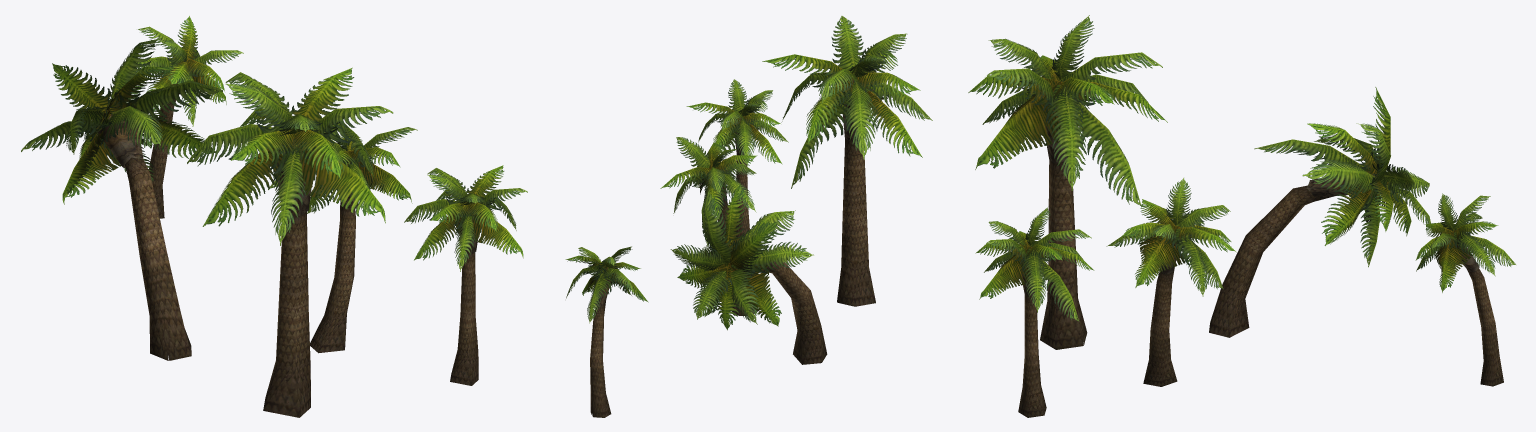
File: environment_Tree_yeshu_02_a.FBX
3 views of the same model, side by side, from view 1: azimuth 30°, elevation 25°; view 2: azimuth 150°, elevation 25°; view 3: azimuth 270°, elevation 25° (orthographic). The views are drawn at different scales.
Parts seen in each view (by area): view 1: environment_Tree_yeshu_02_a0, environment_Tree_yeshu_02_b0, environment_Tree_yeshu_02_e0, environment_Tree_yeshu_02_d0, environment_Tree_yeshu_02_c0; view 2: environment_Tree_yeshu_02_a0, environment_Tree_yeshu_02_b0, environment_Tree_yeshu_02_e0, environment_Tree_yeshu_02_c0, environment_Tree_yeshu_02_d0; view 3: environment_Tree_yeshu_02_a0, environment_Tree_yeshu_02_b0, environment_Tree_yeshu_02_d0, environment_Tree_yeshu_02_e0, environment_Tree_yeshu_02_c0.
Boxes of the visible parts, <box> form: environment_Tree_yeshu_02_a0: <box>187,67,393,417</box>; environment_Tree_yeshu_02_b0: <box>21,38,222,360</box>; environment_Tree_yeshu_02_e0: <box>404,165,527,385</box>; environment_Tree_yeshu_02_d0: <box>268,127,417,353</box>; environment_Tree_yeshu_02_c0: <box>136,16,243,218</box>; environment_Tree_yeshu_02_a0: <box>762,16,932,306</box>; environment_Tree_yeshu_02_b0: <box>670,182,827,364</box>; environment_Tree_yeshu_02_e0: <box>686,79,788,237</box>; environment_Tree_yeshu_02_c0: <box>565,246,648,417</box>; environment_Tree_yeshu_02_d0: <box>660,137,759,315</box>; environment_Tree_yeshu_02_a0: <box>968,15,1167,349</box>; environment_Tree_yeshu_02_b0: <box>1209,87,1430,337</box>; environment_Tree_yeshu_02_d0: <box>1106,178,1236,386</box>; environment_Tree_yeshu_02_e0: <box>975,207,1094,417</box>; environment_Tree_yeshu_02_c0: <box>1415,193,1515,386</box>.
Bounding box in the file's own units: 136 × 139 × 230.
1 material, 1 textured.
